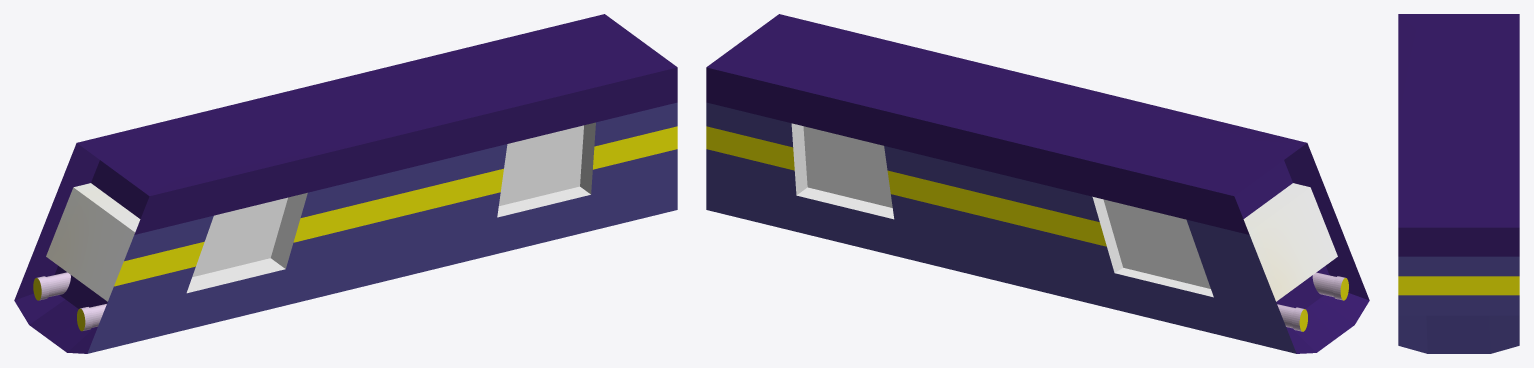
File: ObjetoTPJero.fbx
3 renders of one model, left to right at view 1: azimuth 30°, elevation 25°; view 2: azimuth 150°, elevation 25°; view 3: azimuth 270°, elevation 25°, orthographic. The views are drawn at different scales.
Parts seen in each view (by area): view 1: Tren, Cylinder.001, Cylinder.002; view 2: Tren, Cylinder.002, Cylinder.001; view 3: Tren.
Boxes of the visible parts, x1,y1,x2,y2 form: Tren: [14, 14, 677, 353]; Cylinder.001: [33, 272, 70, 300]; Cylinder.002: [77, 304, 106, 331]; Tren: [706, 14, 1369, 353]; Cylinder.002: [1312, 272, 1348, 300]; Cylinder.001: [1277, 304, 1307, 331]; Tren: [1398, 14, 1519, 353].
Bounding box in the file's own units: 938 × 232 × 200.
Materials: 3 (3 with a texture image).
